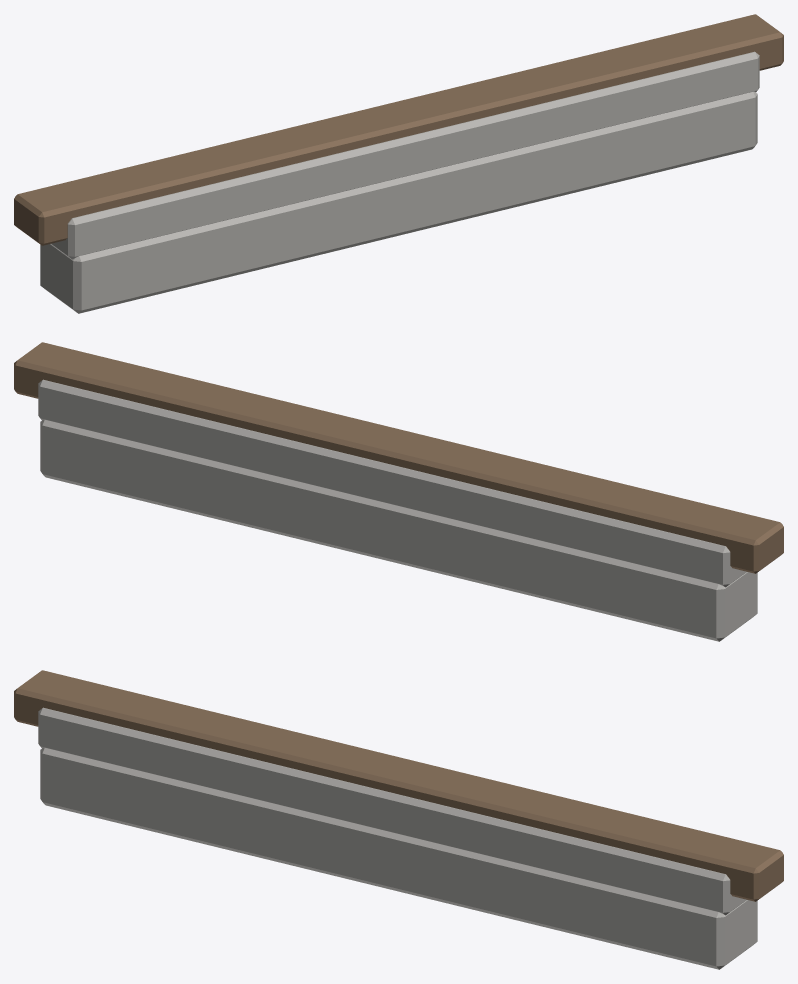
Rendered from foundation_plinth_4m.glb.
The picture shows the model from 3 angles, top to bottom: view 1: azimuth 30°, elevation 25°; view 2: azimuth 150°, elevation 25°; view 3: azimuth 330°, elevation 25°; orthographic projection.
Visible parts, largest first — view 1: foundation_plinth_4m; view 2: foundation_plinth_4m; view 3: foundation_plinth_4m.
Part boxes in pixels (x1,y1,x2,y2): foundation_plinth_4m: (14,14,783,313); foundation_plinth_4m: (14,342,783,641); foundation_plinth_4m: (14,670,783,969).
Size of the model in its own units: 4.18 by 0.57 by 0.38.
